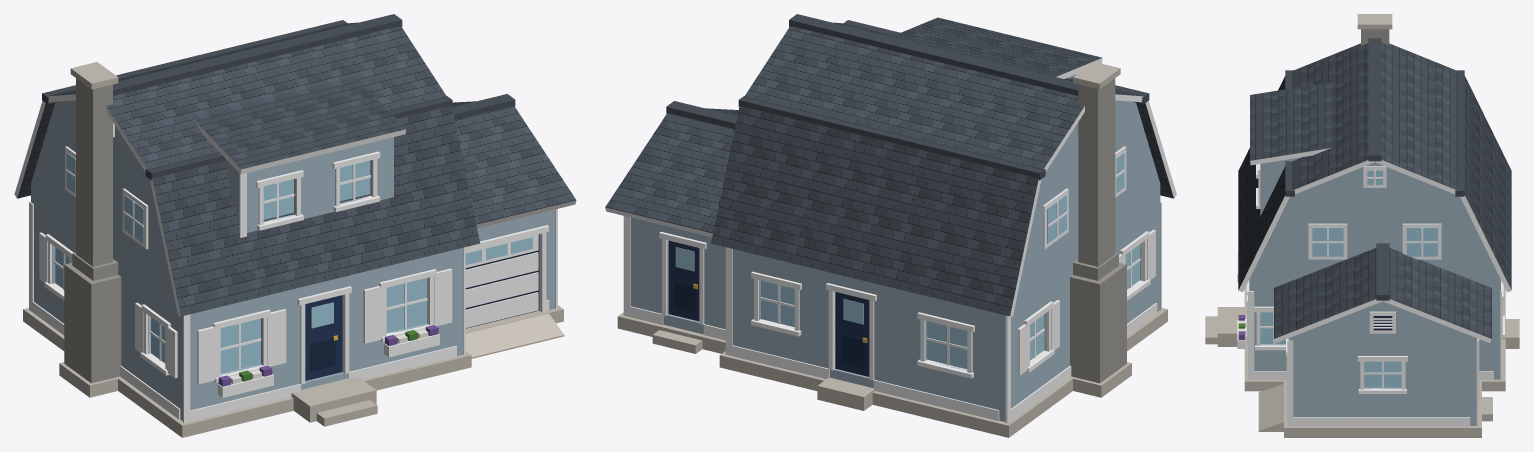
File: base-05-level2.glb
The picture shows the model from 3 angles, left to right: view 1: azimuth 30°, elevation 25°; view 2: azimuth 150°, elevation 25°; view 3: azimuth 270°, elevation 25°; orthographic projection. The views are drawn at different scales.
Parts seen in each view (by area): view 1: base_house_5_finished, piece_garage; view 2: base_house_5_finished, piece_garage; view 3: base_house_5_finished, piece_garage.
Part boxes in pixels (left/top/right/bottom): base_house_5_finished: left=14, top=14, right=480, bottom=437; piece_garage: left=452, top=94, right=576, bottom=358; base_house_5_finished: left=711, top=14, right=1176, bottom=437; piece_garage: left=605, top=101, right=738, bottom=353; base_house_5_finished: left=1205, top=14, right=1519, bottom=391; piece_garage: left=1258, top=243, right=1492, bottom=437.
Size of the model in its own units: 13.29 by 8.88 by 10.
Materials: 15 (1 with a texture image).
